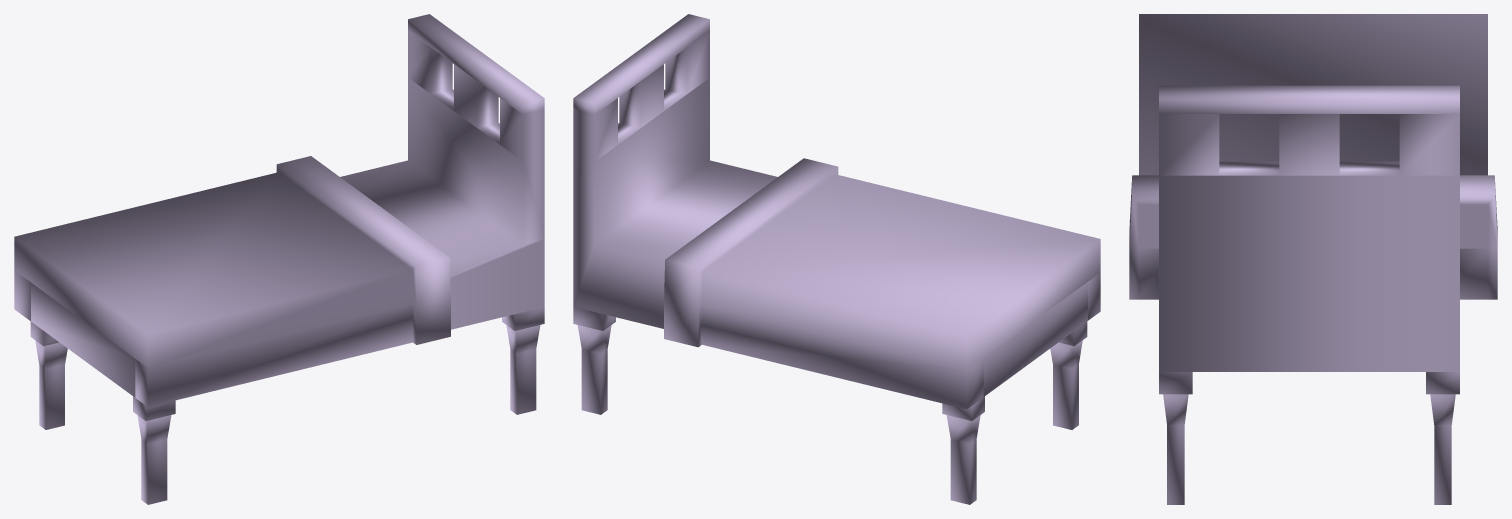
Rendered from Bed.fbx.
The picture shows the model from 3 angles, left to right: view 1: azimuth 30°, elevation 25°; view 2: azimuth 150°, elevation 25°; view 3: azimuth 270°, elevation 25°; orthographic projection. The views are drawn at different scales.
Parts seen in each view (by area): view 1: Bed:Box001; view 2: Bed:Box001; view 3: Bed:Box001.
Boxes of the visible parts, box(x1,y1,x2,y2) form: Bed:Box001: box(14, 14, 544, 504); Bed:Box001: box(573, 14, 1100, 504); Bed:Box001: box(1129, 14, 1497, 504).
Bounding box in the file's own units: 160 × 118 × 96.35.
